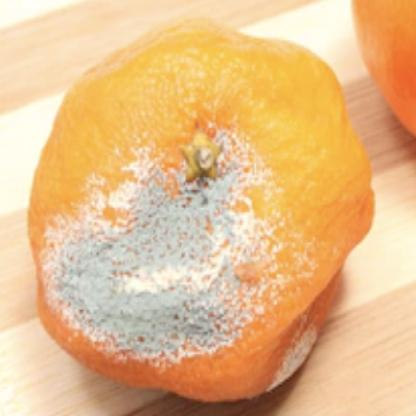rotten: (30, 19, 379, 409)
